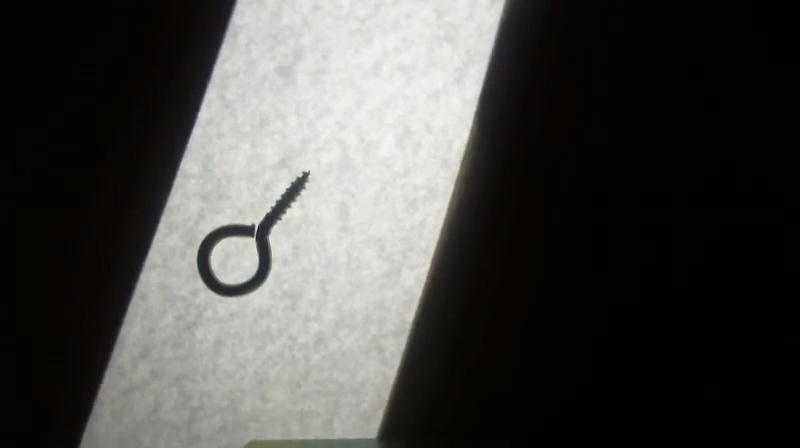O001: (191, 167, 312, 301)
